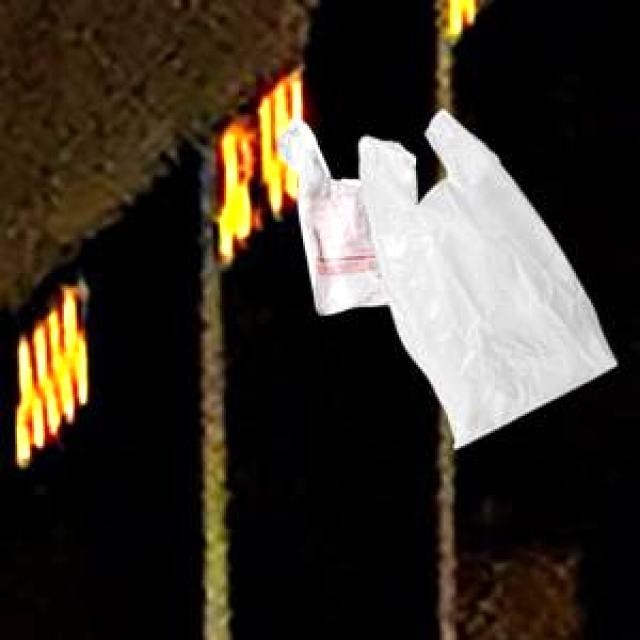Plastic_Bag: (356, 108, 614, 445), (275, 117, 414, 310)
